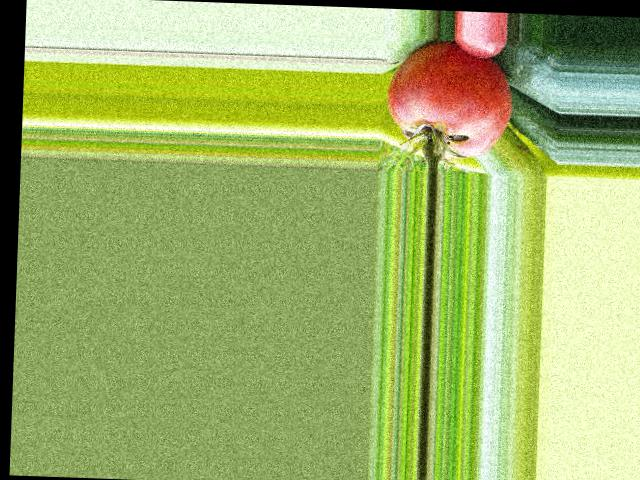tomato: (385, 38, 513, 158)
